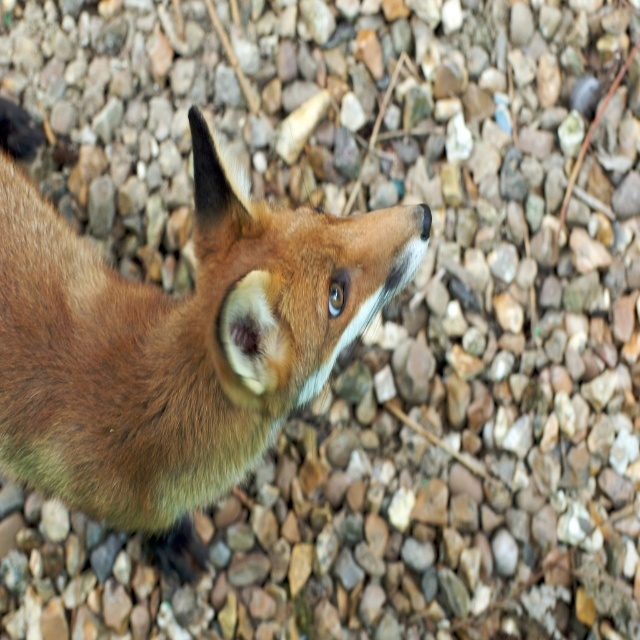Fox: (0, 94, 432, 584)
